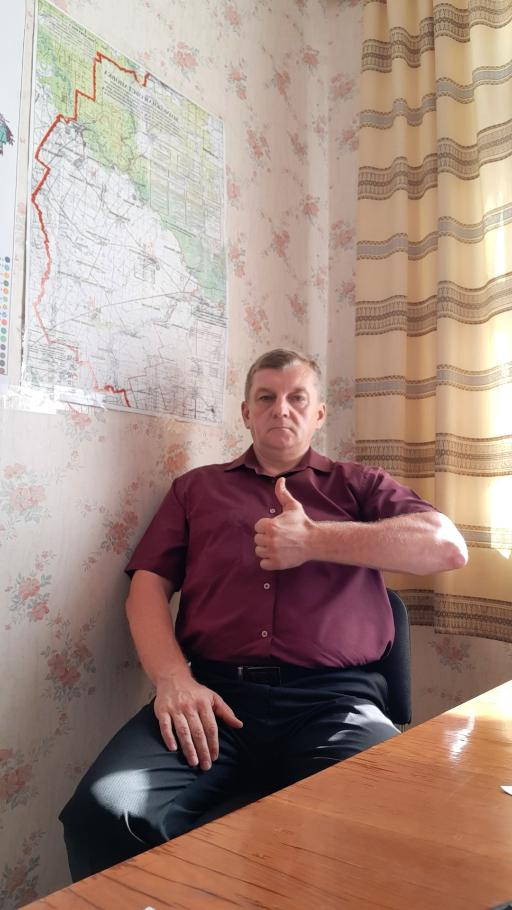like: (248, 474, 319, 574)
no_gesture: (149, 677, 246, 774)
